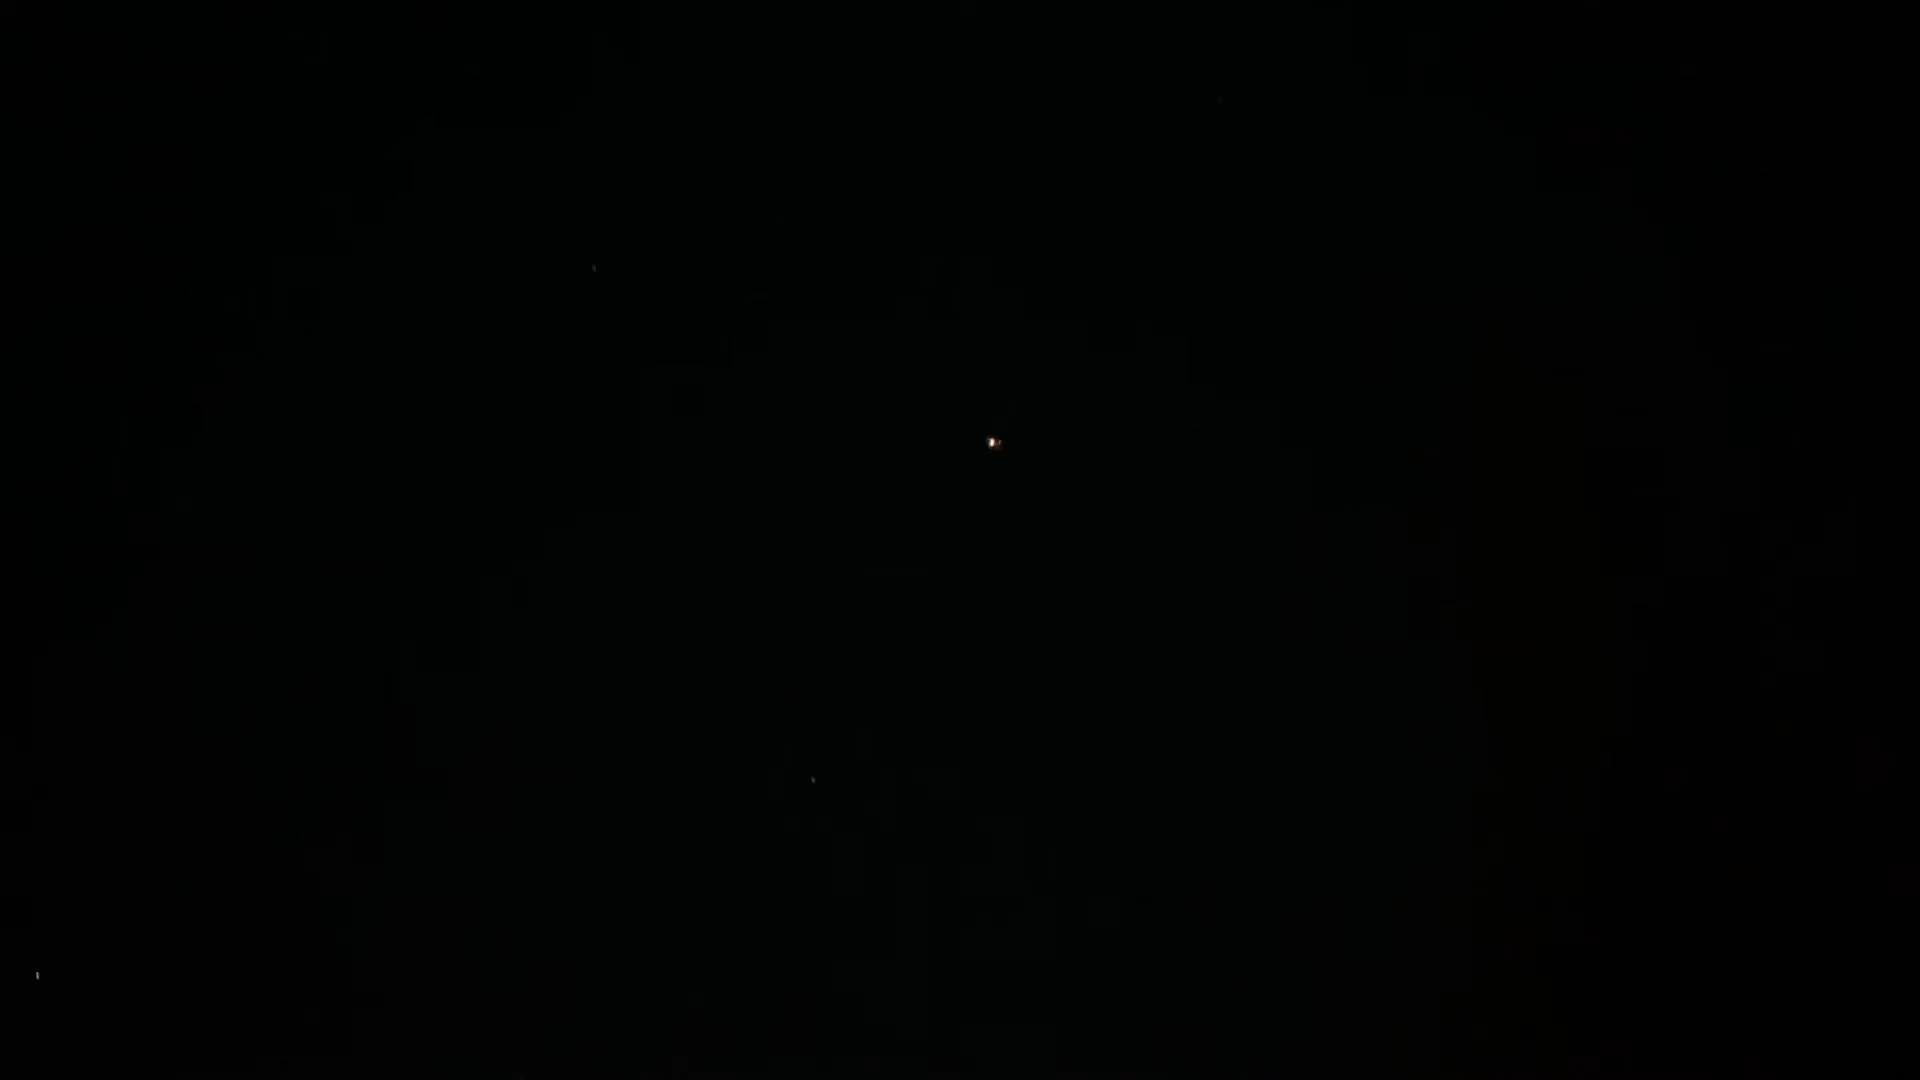Plane: (975, 421, 1015, 460)
